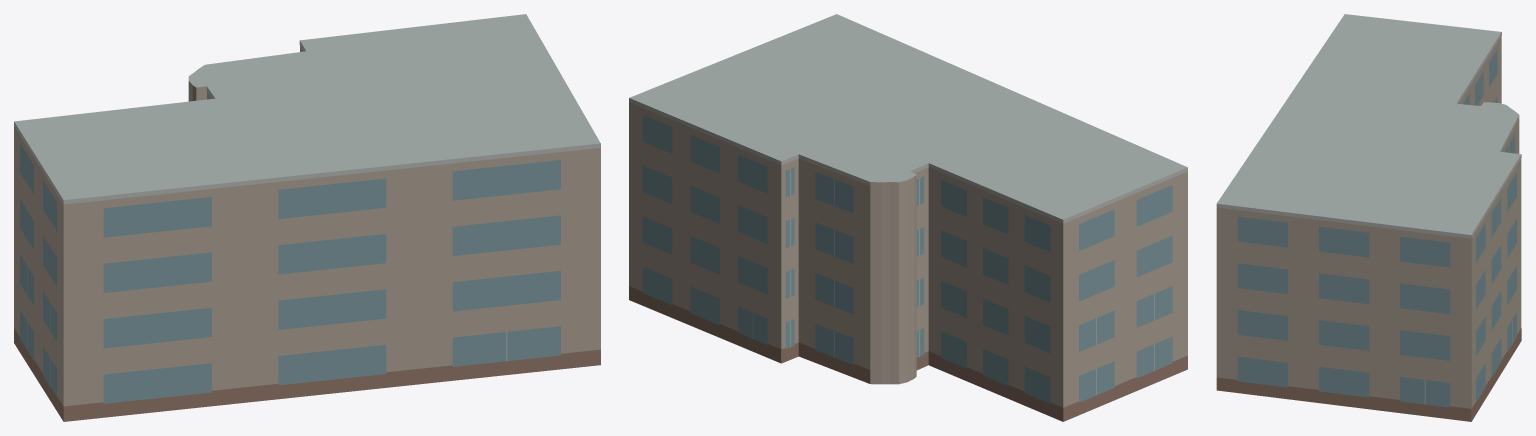
File: survey-upis-32961436.glb
3 views of the same model, side by side, from view 1: azimuth 30°, elevation 25°; view 2: azimuth 150°, elevation 25°; view 3: azimuth 270°, elevation 25° (orthographic). The views are drawn at different scales.
Parts seen in each view (by area): view 1: survey-upis-32961436.tmp; view 2: survey-upis-32961436.tmp; view 3: survey-upis-32961436.tmp.
Boxes of the visible parts, <box> form: survey-upis-32961436.tmp: <box>14,14,600,421</box>; survey-upis-32961436.tmp: <box>629,14,1187,421</box>; survey-upis-32961436.tmp: <box>1216,14,1521,421</box>.
Bounding box in the file's own units: 30.98 × 12.2 × 18.05.
